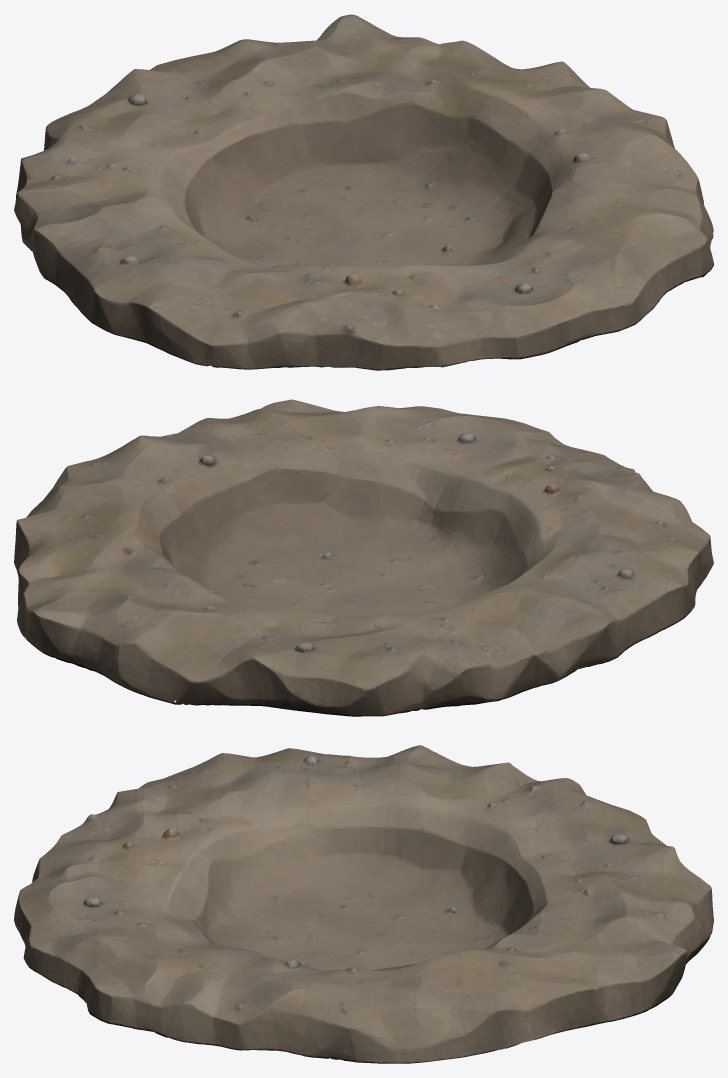
The picture shows the model from 3 angles, top to bottom: view 1: azimuth 30°, elevation 25°; view 2: azimuth 150°, elevation 25°; view 3: azimuth 270°, elevation 25°; orthographic projection. The views are drawn at different scales.
Visible parts, largest first — view 1: world; view 2: world; view 3: world.
Boxes of the visible parts, x1,y1,x2,y2 form: world: (14, 14, 713, 370); world: (14, 399, 713, 716); world: (14, 745, 713, 1063).
Bounding box in the file's own units: 0.9577 × 0.1121 × 0.9948.
1 material, 1 textured.
